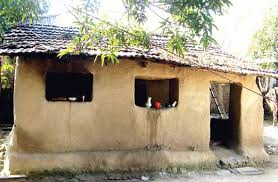Mud House: (13, 21, 268, 170)
